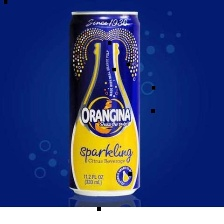can: (64, 7, 144, 198)
